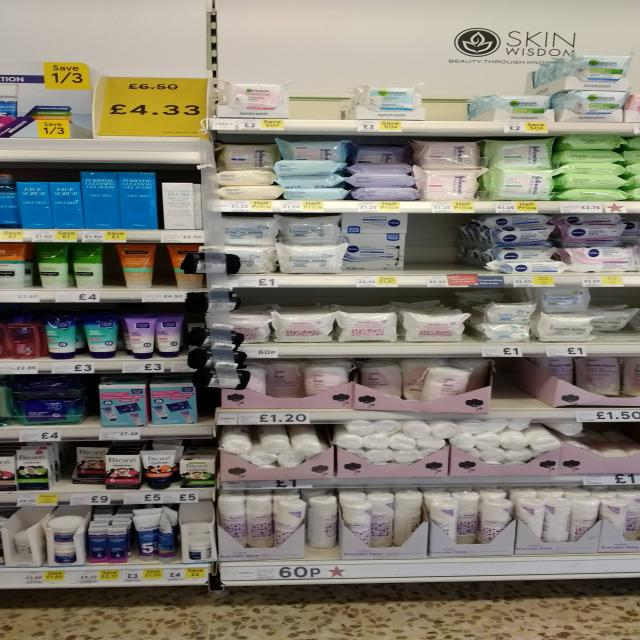void: (412, 216, 467, 287), (298, 68, 347, 132), (493, 357, 529, 420), (435, 83, 469, 132), (150, 241, 178, 300), (102, 242, 129, 300), (196, 391, 218, 436)
